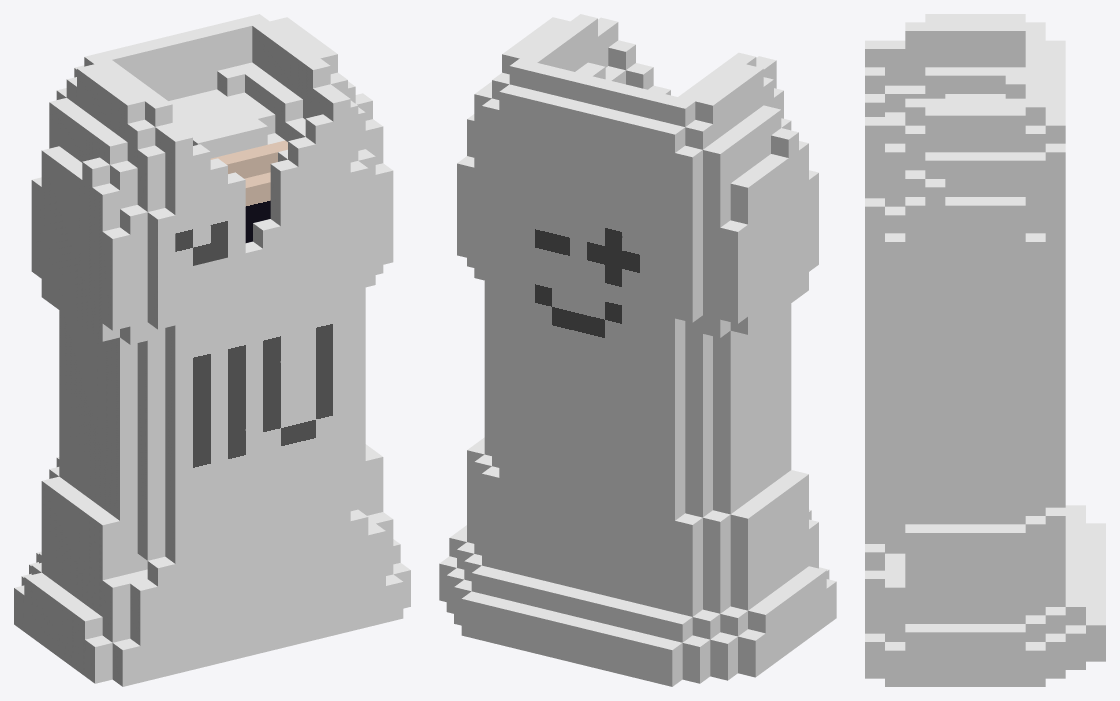
File: TORS_VII.dae
3 renders of one model, left to right at view 1: azimuth 30°, elevation 25°; view 2: azimuth 150°, elevation 25°; view 3: azimuth 270°, elevation 25°, orthographic.
Parts seen in each view (by area): view 1: Content; view 2: Content; view 3: Content.
Boxes of the visible parts, x1,y1,x2,y2 form: Content: (14, 14, 410, 686); Content: (439, 14, 836, 686); Content: (865, 14, 1105, 686).
Bounding box in the file's own units: 18 × 30 × 12.
Materials: 1 (1 with a texture image).
